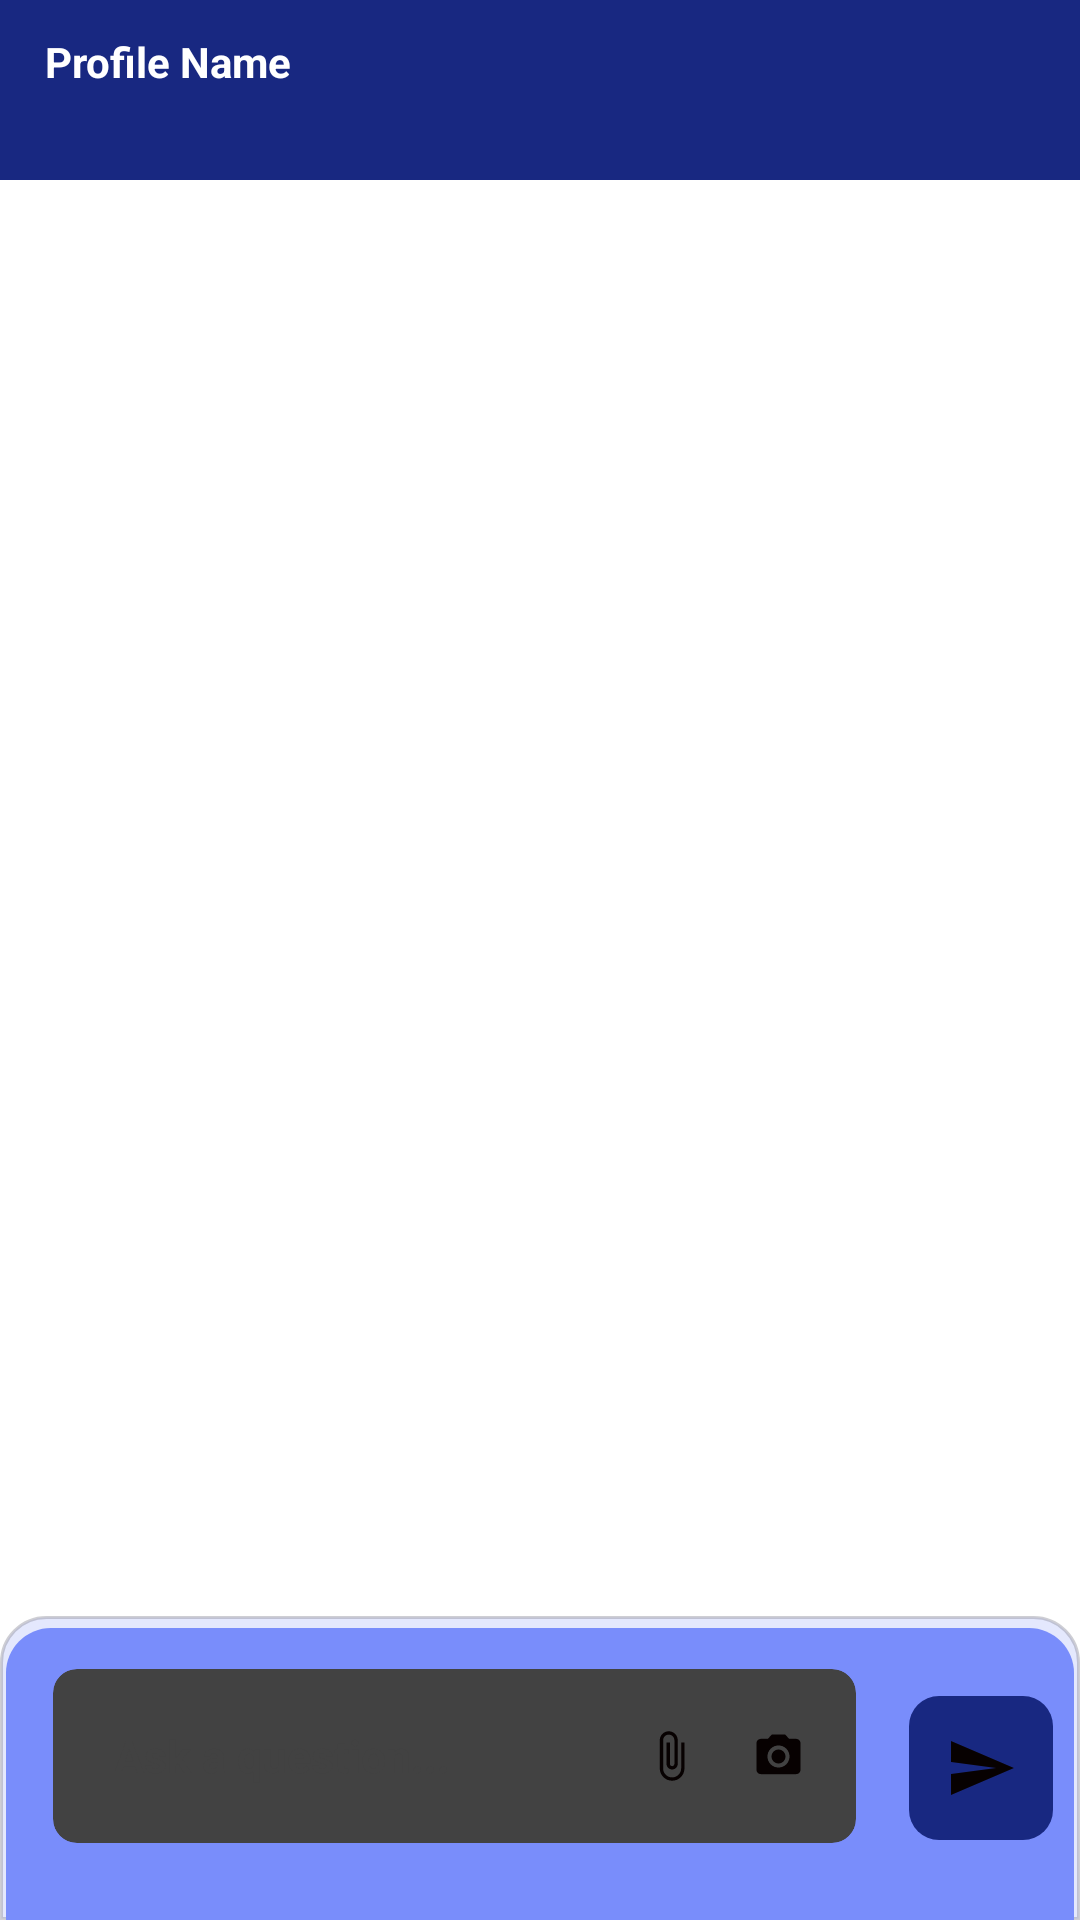

Where to tap for icons on this 1080 × 1920 app screen, as (x=x, y=y):
attachment: (x=672, y=1756)
camera: (x=778, y=1754)
send: (x=981, y=1768)
